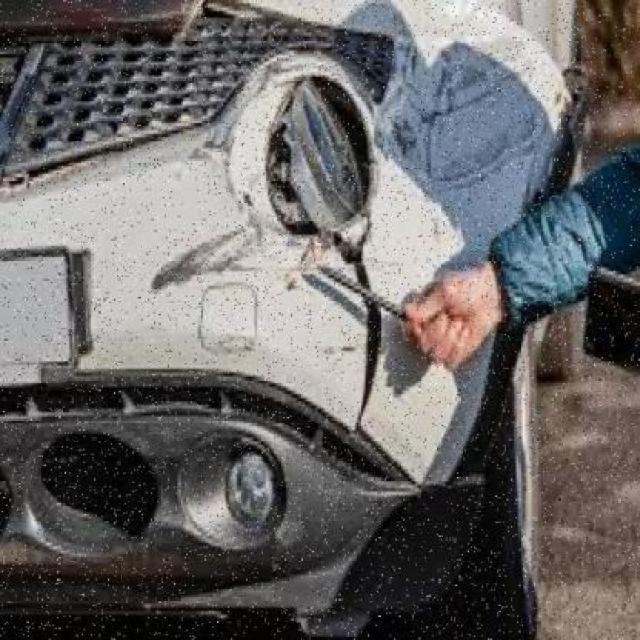front-bumper-dent: (0, 185, 503, 589)
